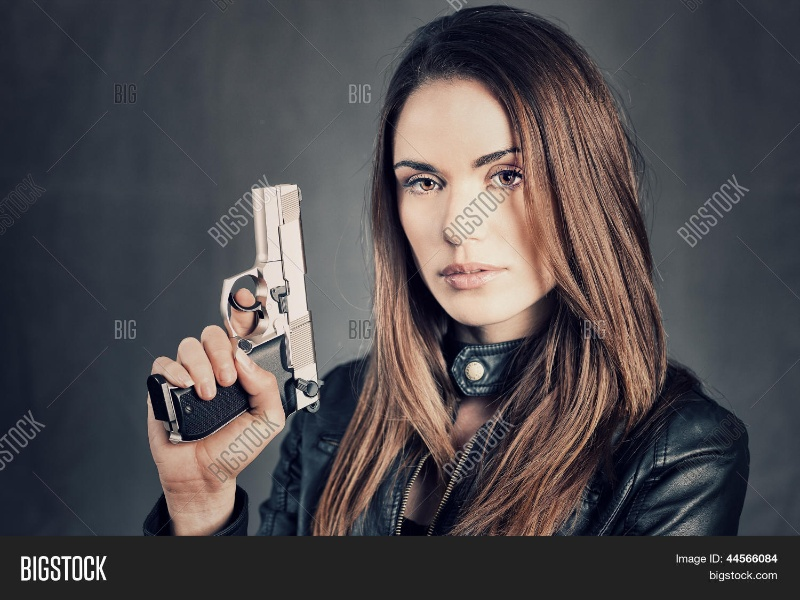gun: (136, 179, 326, 431)
